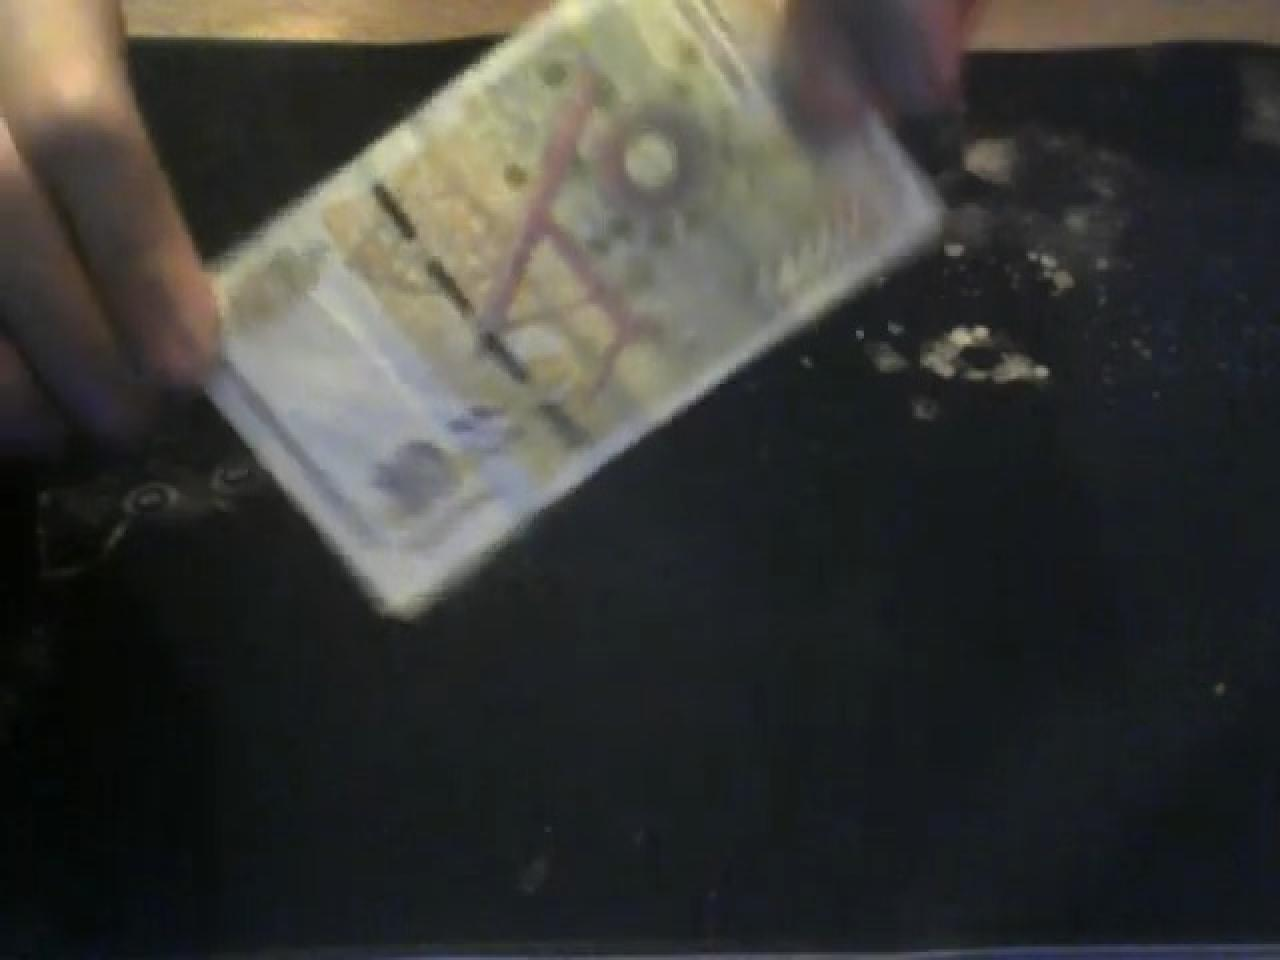10leva: (206, 0, 956, 621)
